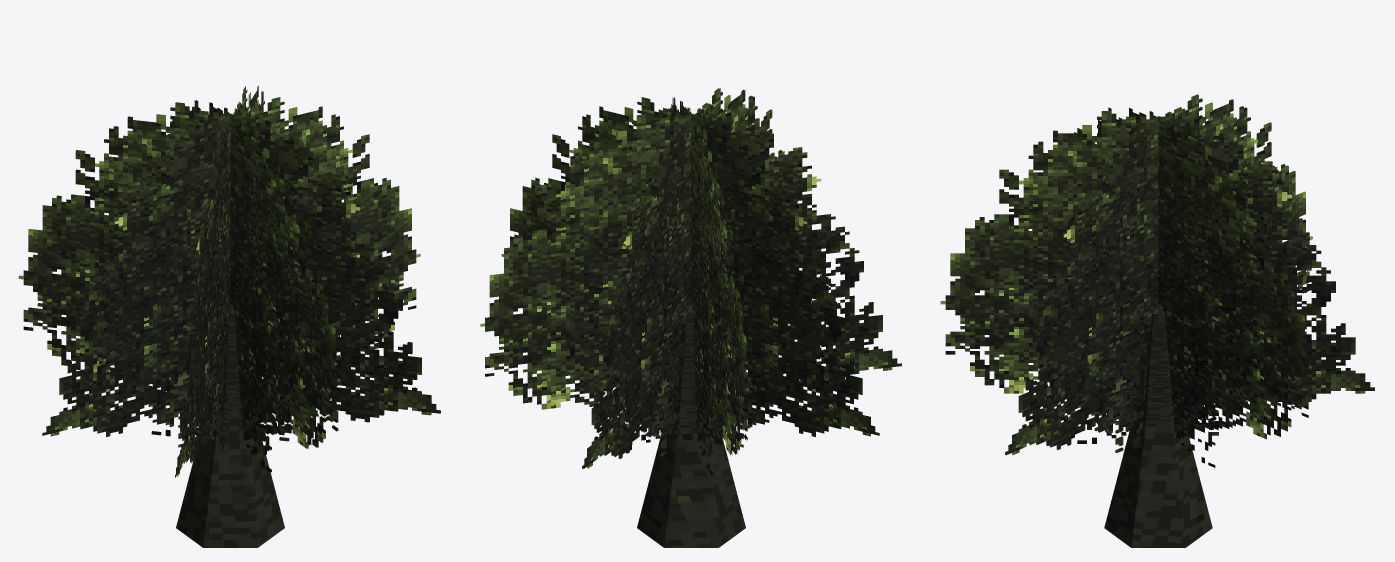
Rendered from tree17.glb.
3 renders of one model, left to right at view 1: azimuth 30°, elevation 25°; view 2: azimuth 150°, elevation 25°; view 3: azimuth 270°, elevation 25°, orthographic.
Visible parts, largest first — view 1: tree17; view 2: tree17; view 3: tree17.
Part boxes in pixels (box(x1,y1,x2,y2)): tree17: box(18, 85, 440, 547); tree17: box(480, 88, 901, 547); tree17: box(940, 94, 1374, 547).
Bounding box in the file's own units: 7.68 × 8 × 7.68.
1 material, 1 textured.
